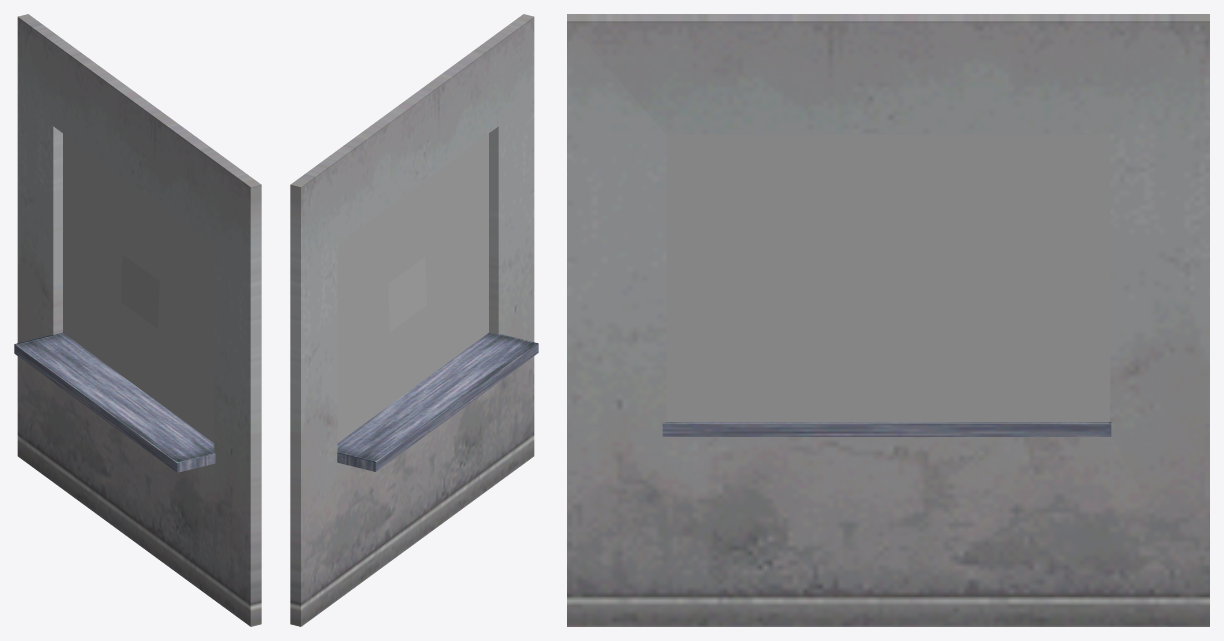
File: LIBRARY Wall A Shutters.fbx
3 views of the same model, side by side, from view 1: azimuth 30°, elevation 25°; view 2: azimuth 150°, elevation 25°; view 3: azimuth 270°, elevation 25° (orthographic). The views are drawn at different scales.
Parts seen in each view (by area): view 1: WALL A Shutters; view 2: WALL A Shutters; view 3: WALL A Shutters.
Boxes of the visible parts, bbox=[...] form: WALL A Shutters: bbox=[14, 14, 261, 626]; WALL A Shutters: bbox=[290, 14, 538, 626]; WALL A Shutters: bbox=[567, 14, 1209, 626].
Bounding box in the file's own units: 37.37 × 312 × 300.
